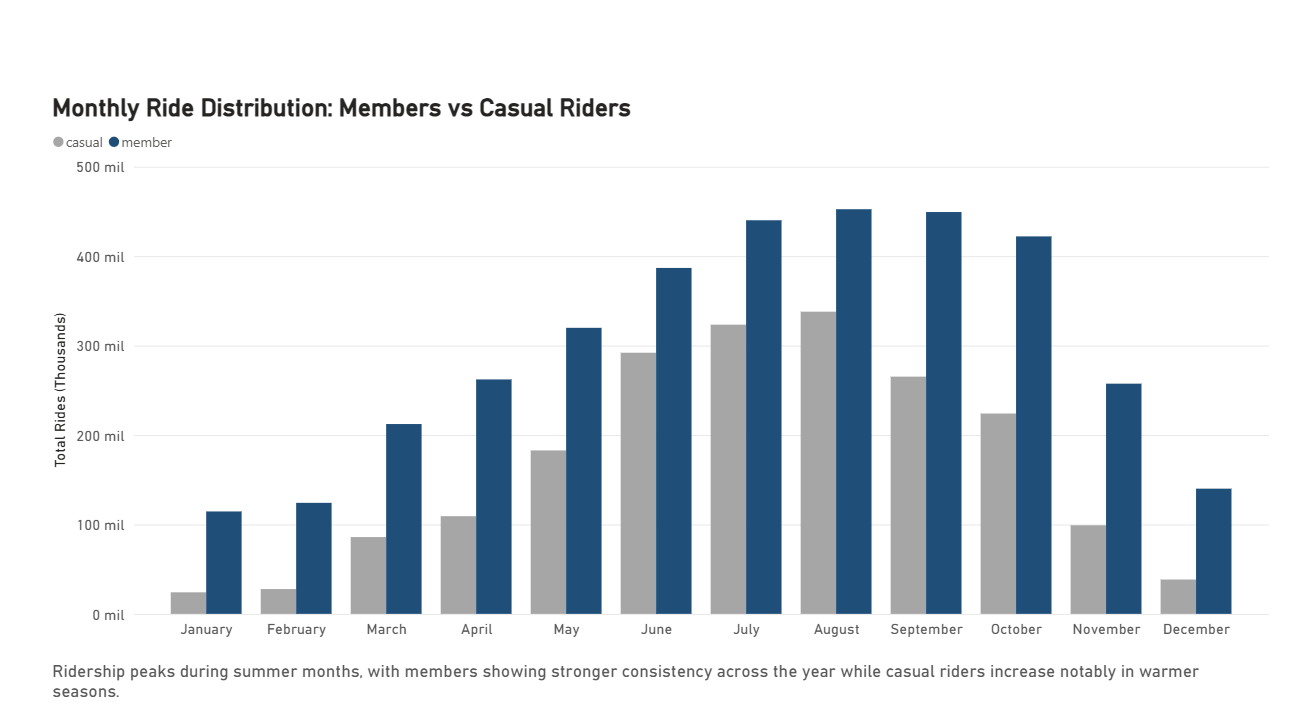

Layout of this report page (visuals, bound fields, positions):
{"tool":"powerbi","page":{"name":"4 Monthly seasonality","canvas":[1280,720],"ordinal":3},"visuals":[{"type":"clusteredColumnChart","title":"Monthly Ride Distribution: Members vs Casual Riders","fields":{"Category":["rides_by_month.month_name"],"Y":["Sum(rides_by_month.total_rides)"],"Series":["rides_by_month.member_casual"]},"box":[60,100,1200,540],"z":0},{"type":"textbox","box":[60,650,1200,64],"z":1000}]}

Visuals, with their boxes in screenshot pixels (x1, y1, x2, y2), scaled from the page's 1280x720 canvas onto the 1293x718 screenshot:
"Monthly Ride Distribution: Members vs Casual Riders" clusteredColumnChart: [left=61, top=100, right=1273, bottom=638]
textbox: [left=61, top=648, right=1273, bottom=712]
